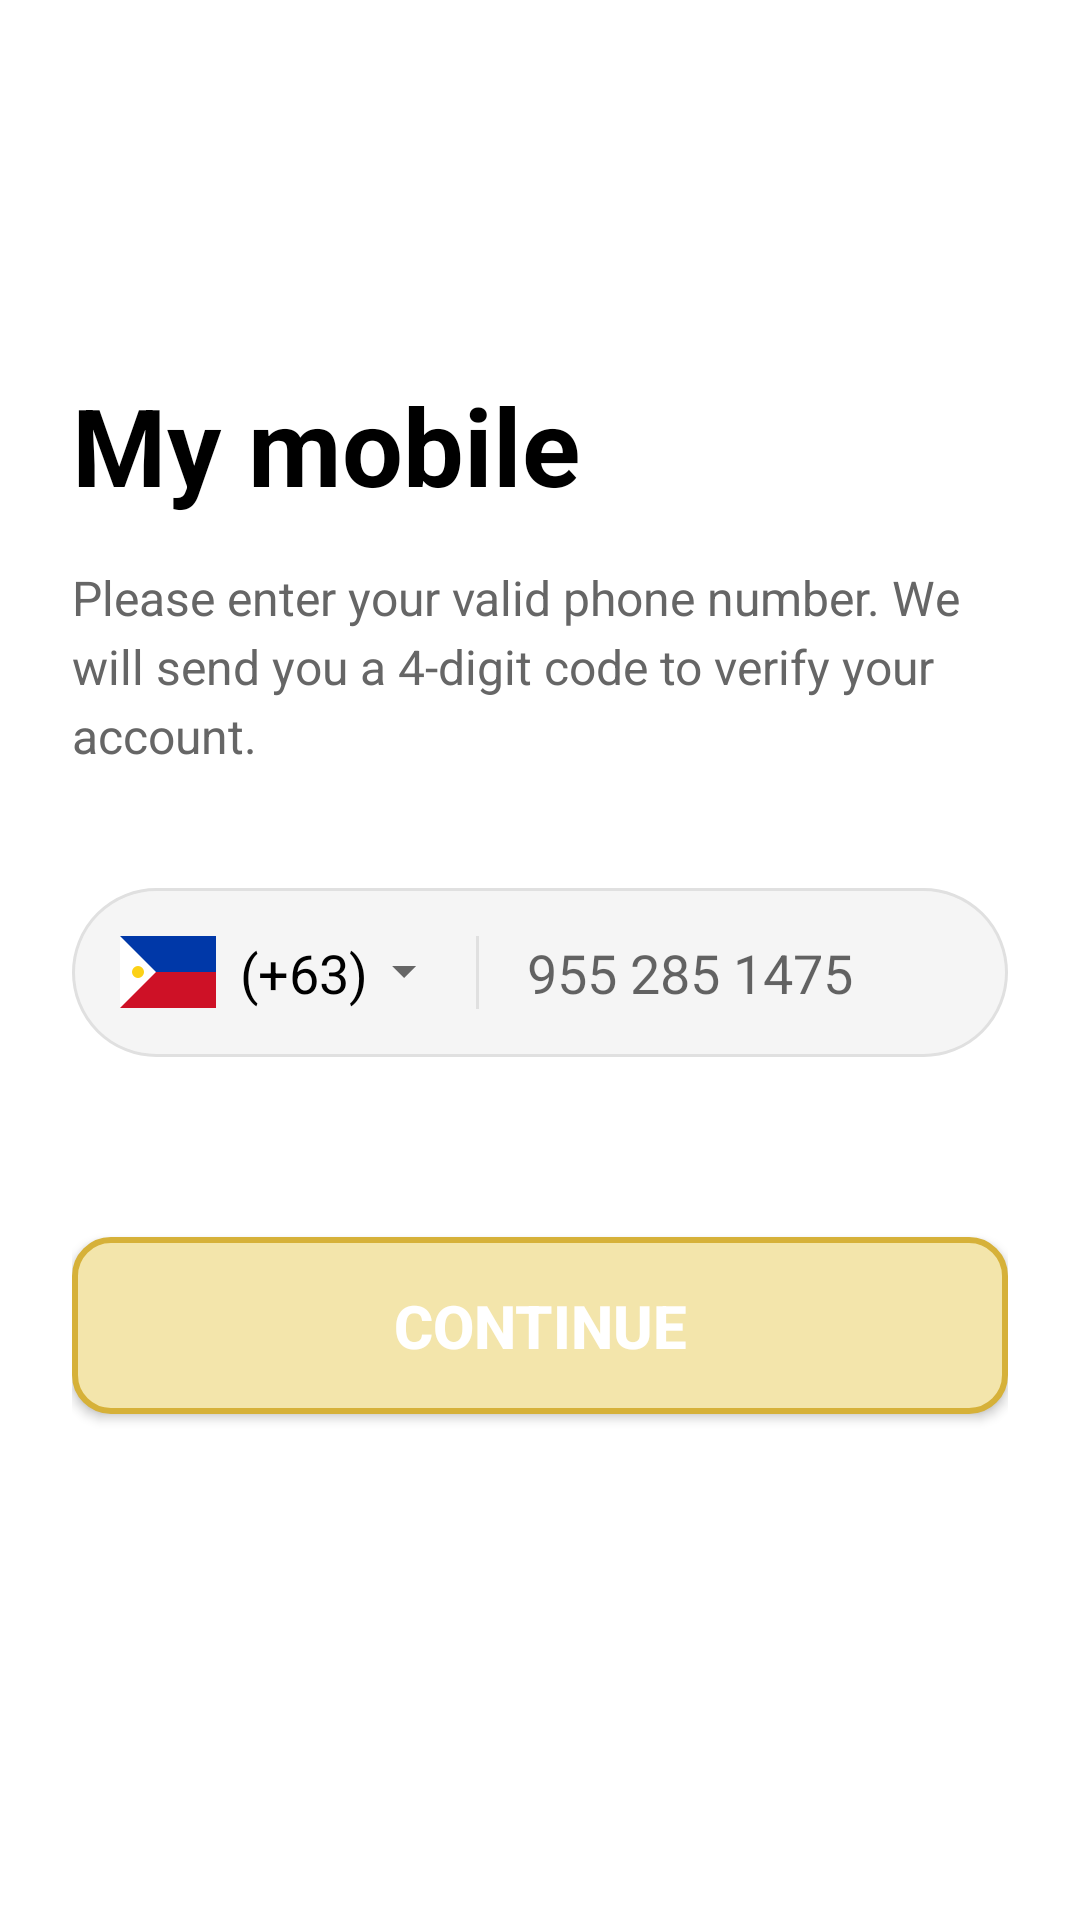

Screen size 1080w x 1920h. Icon name, then its center in pixels as (x=x, y=y):
Country Flag: (x=168, y=972)
Dropdown: (x=404, y=972)
